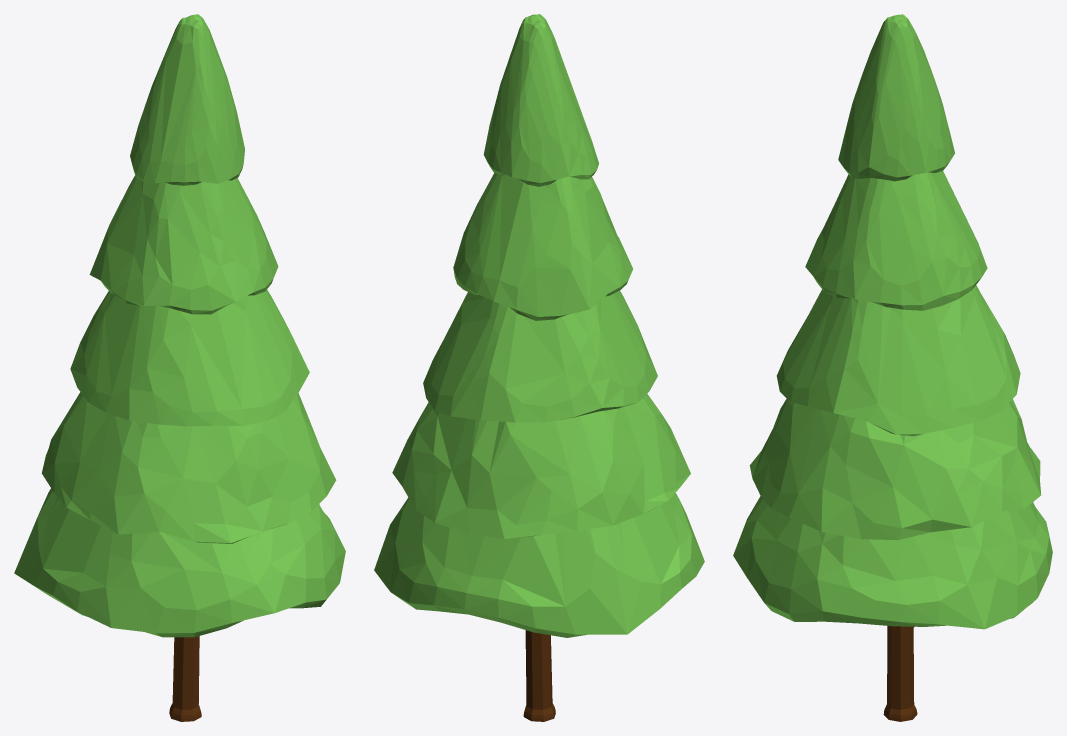
Rendered from SM_Tree1.fbx.
3 renders of one model, left to right at view 1: azimuth 30°, elevation 25°; view 2: azimuth 150°, elevation 25°; view 3: azimuth 270°, elevation 25°, orthographic.
Parts seen in each view (by area): view 1: Cylinder.001, Cylinder; view 2: Cylinder.001, Cylinder; view 3: Cylinder.001, Cylinder.
Part boxes in pixels (box(x1,y1,x2,y2)): Cylinder.001: box(14, 14, 345, 637); Cylinder: box(169, 636, 201, 721); Cylinder.001: box(374, 14, 704, 637); Cylinder: box(523, 630, 555, 721); Cylinder.001: box(733, 14, 1052, 629); Cylinder: box(883, 626, 917, 721).
Bounding box in the file's own units: 175 × 174 × 425.
